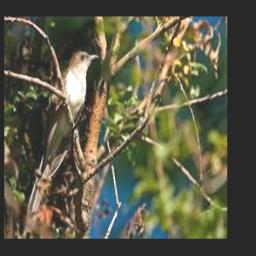Cuckoo: (27, 51, 98, 216)
